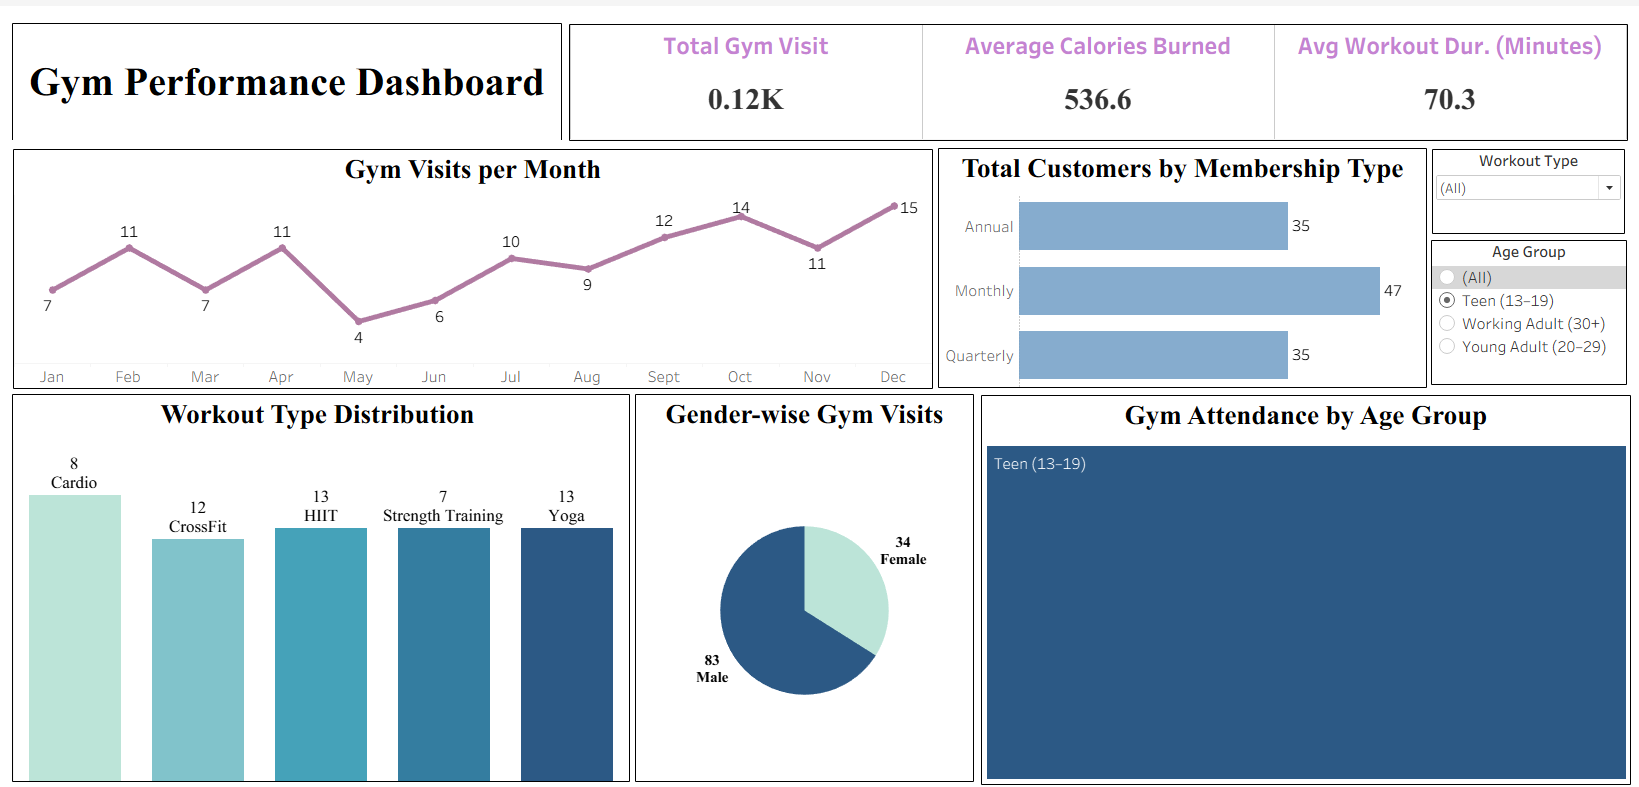

The dashboard page shown, as its layout file describes it:
{"tool":"tableau","page":{"name":"Dashboard 1","canvas":[1000,1000],"units":"permille","ordinal":0},"visuals":[{"type":"text","box":[9.1,21.2,335.2,149.8]},{"type":"worksheet","title":"KPI","mark":"Automatic","box":[348.6,22.9,645.3,149]},{"type":"worksheet","title":"Sheet 7","mark":"Automatic","rows":["membership_type"],"cols":["Calculation_1312300851118081"],"box":[573.4,180.9,298,305.7]},{"type":"worksheet","title":"Visit Per month","mark":"Line","rows":["Calculation_1312300855013381"],"cols":["visit_date"],"box":[9.8,182.2,560.6,305.7]},{"type":"filter","title":"Sheet 3","param":"[federated.1lb4h2u1jo8e2a10v53o61n44im6].[none:workout_type:nk]","box":[874.5,182.2,117.6,108.3]},{"type":"filter","title":"Sheet 3","param":"[federated.1lb4h2u1jo8e2a10v53o61n44im6].[none:Calculation_1312300850188288:nk]","box":[873.9,298.1,119.4,184.7]},{"type":"worksheet","title":"Sheet 3","mark":"Bar","rows":["Calculation_1312300855013381"],"cols":["workout_type"],"box":[9.1,494.3,376.6,494.3]},{"type":"worksheet","title":"Sheet 6","mark":"Pie","box":[388.8,494.3,206.6,494.3]},{"type":"worksheet","title":"Sheet 5","mark":"Automatic","box":[599.6,495.5,396.1,496.8]}]}

Visuals, with their boxes on the dashboard's canvas, which has no fixed pixel size, in thousandths of its width and height (x1, y1, x2, y2). These are canvas units, not pixel positions in the 1639x787 screenshot, which may show the page scaled, cropped or inside an application window:
text: bbox(9, 21, 344, 171)
"KPI" worksheet: bbox(349, 23, 994, 172)
"Sheet 7" worksheet: bbox(573, 181, 871, 487)
"Visit Per month" worksheet (Line marks): bbox(10, 182, 570, 488)
"Sheet 3" filter: bbox(874, 182, 992, 290)
"Sheet 3" filter: bbox(874, 298, 993, 483)
"Sheet 3" worksheet (Bar marks): bbox(9, 494, 386, 989)
"Sheet 6" worksheet (Pie marks): bbox(389, 494, 595, 989)
"Sheet 5" worksheet: bbox(600, 496, 996, 992)
